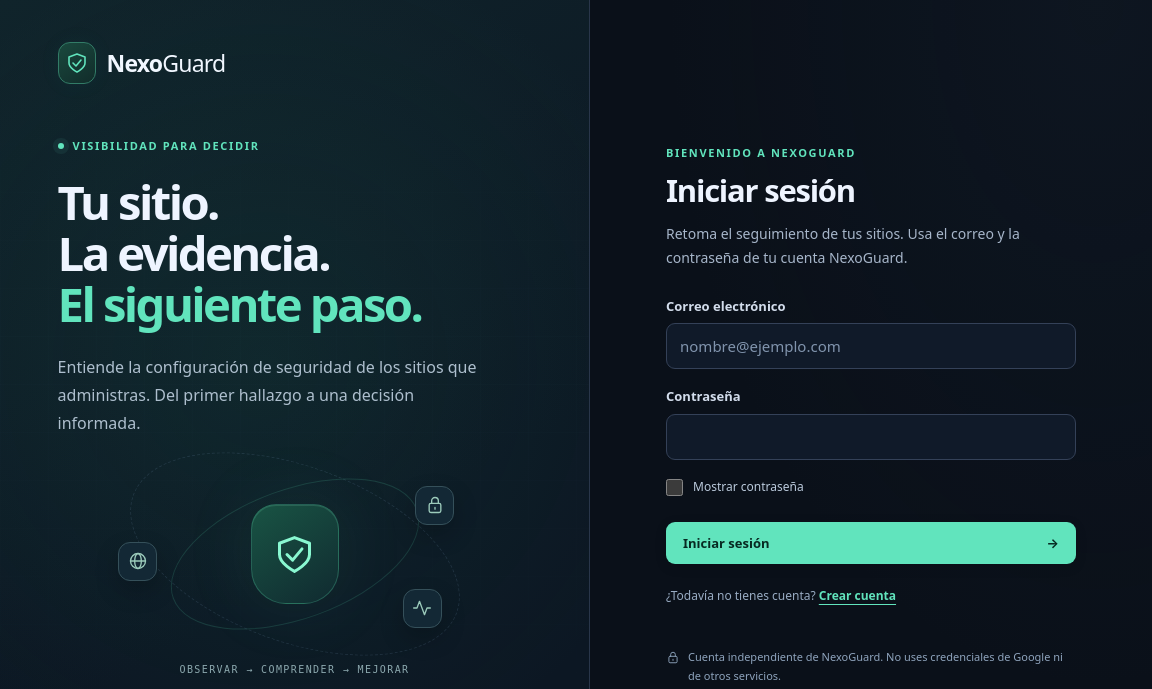
Test: valida las entradas sin hacer solicitudes
Click the button "Iniciar sesión →".
click(726, 542)  # box [666, 522, 1076, 564]
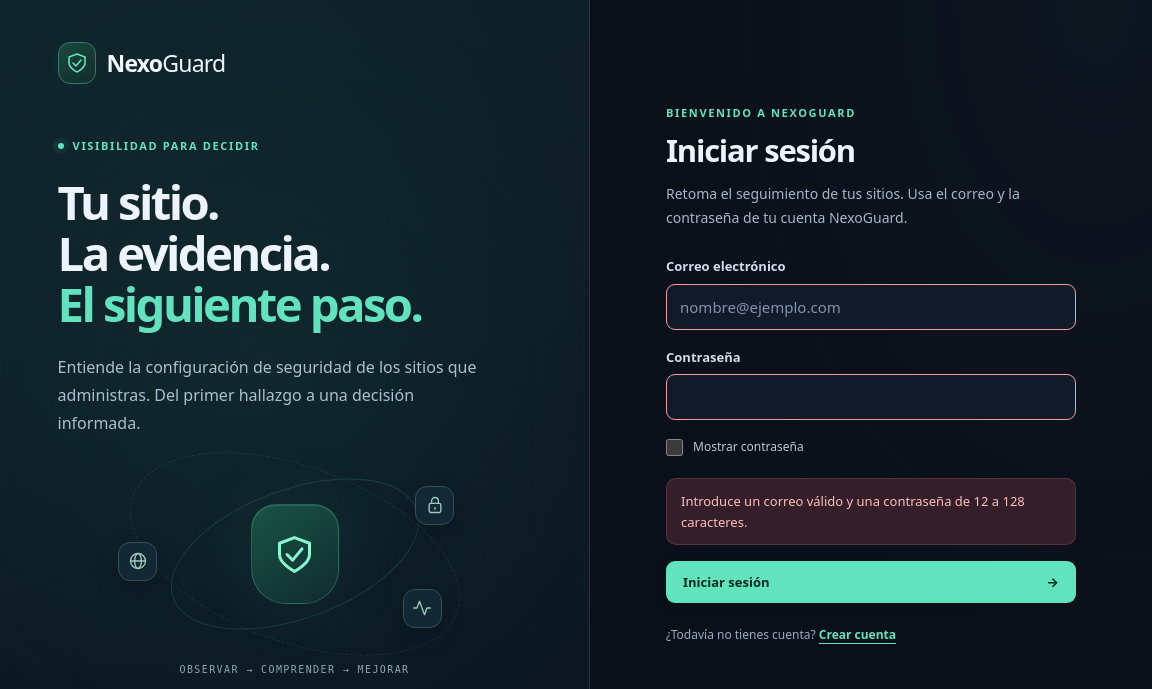
Check: the message shows "correo válido", box [681, 492, 1025, 531]
